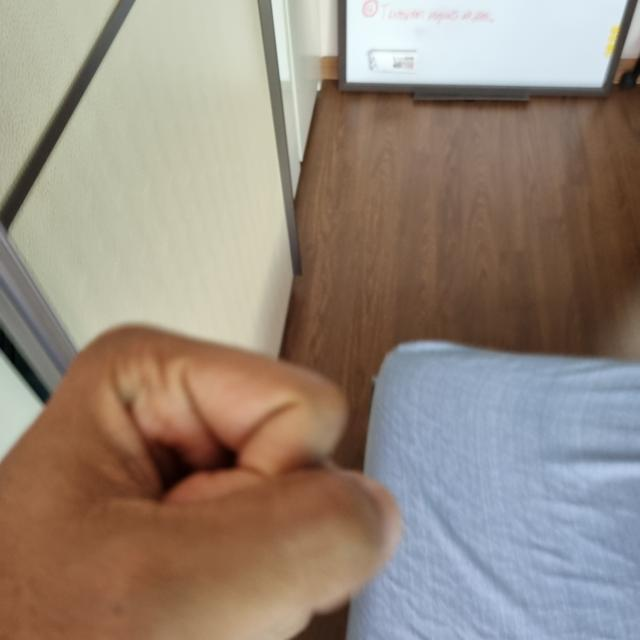Rock: (0, 325, 395, 639)
